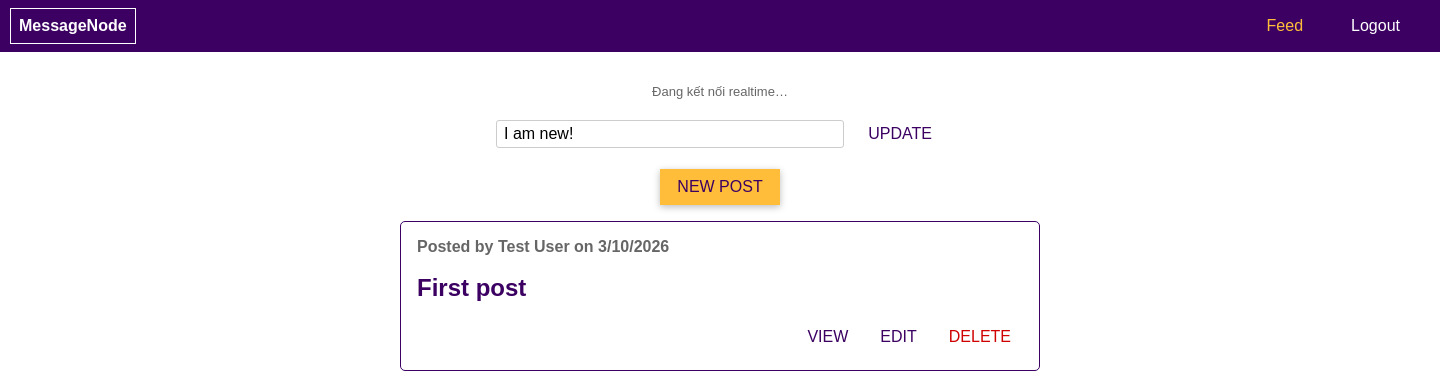
Test: Delete thành công cập nhật danh sách
Expected: the heading "First post" is shown, [417,274,526,301]
Click the button "DELETE" at (980, 337), box [937,320,1023,354]
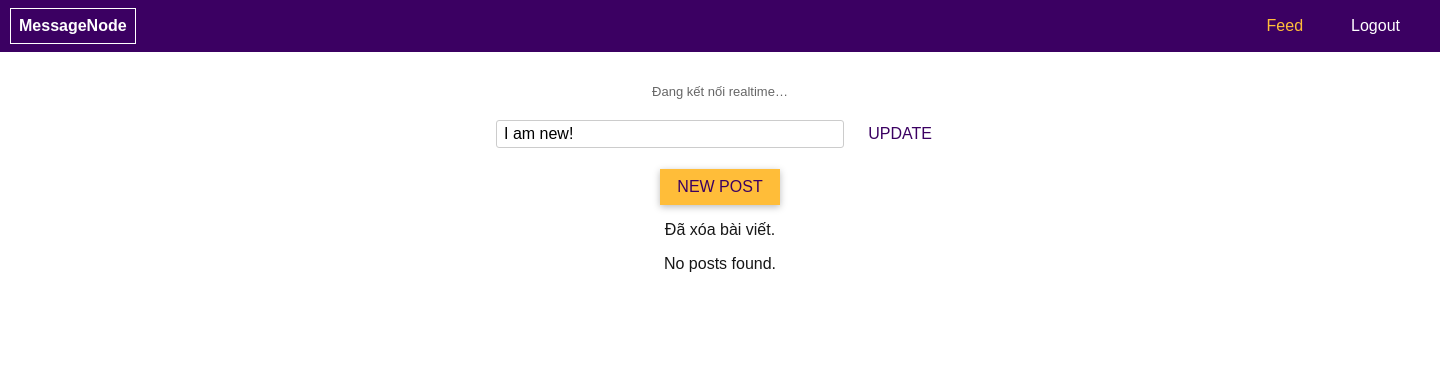
Result: the text "No posts found." is shown at [664,255,776,272]
